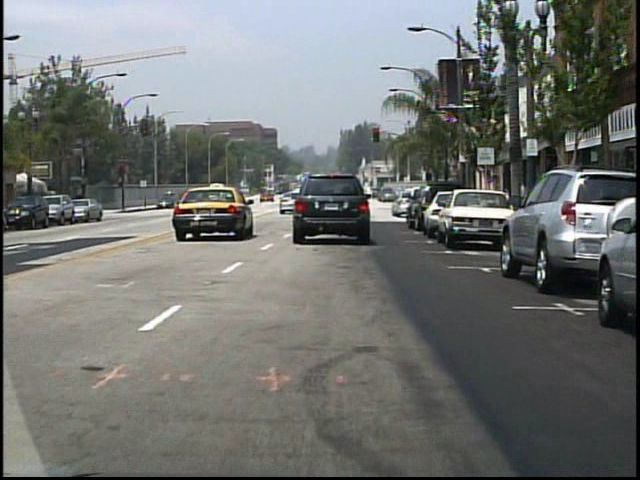person: (347, 187, 364, 218), (188, 188, 202, 213)
